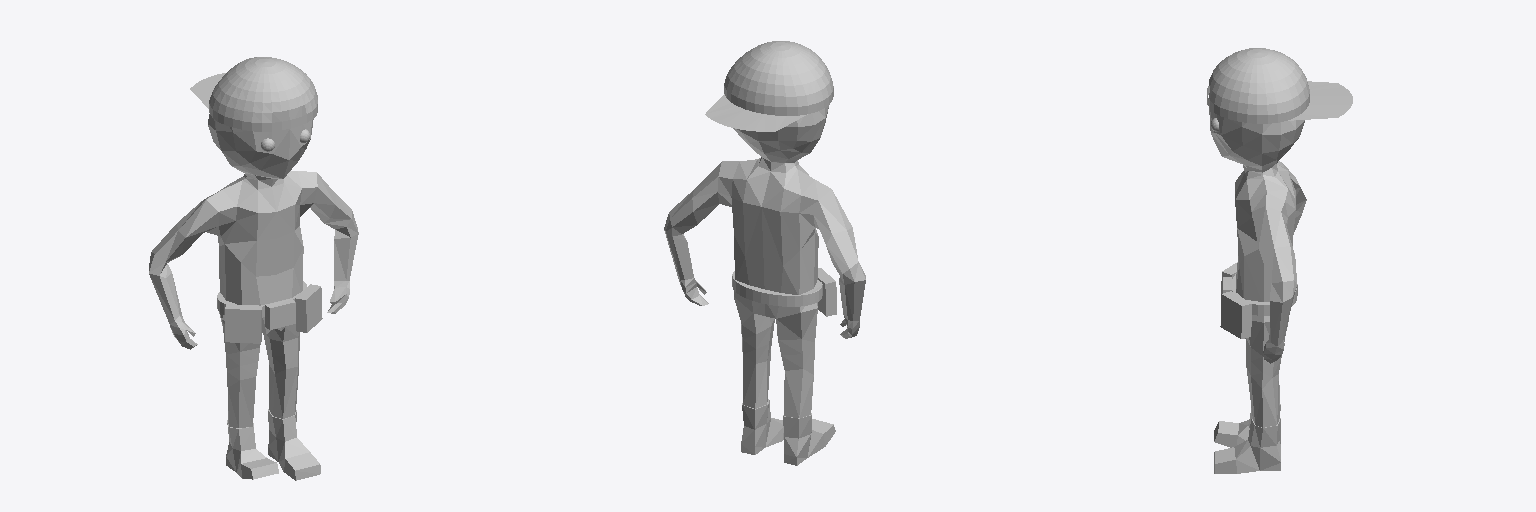
Rendered from Main_Character_Idle_2.obj.
3 views of the same model, side by side, from view 1: azimuth 30°, elevation 25°; view 2: azimuth 150°, elevation 25°; view 3: azimuth 270°, elevation 25° (orthographic).
Visible parts, largest first — view 1: Main_Character_Test.003_Main_Character_Test.004; view 2: Main_Character_Test.003_Main_Character_Test.004; view 3: Main_Character_Test.003_Main_Character_Test.004.
Boxes of the visible parts, x1=… form: Main_Character_Test.003_Main_Character_Test.004: x1=149, y1=57, x2=358, y2=480; Main_Character_Test.003_Main_Character_Test.004: x1=664, y1=41, x2=865, y2=465; Main_Character_Test.003_Main_Character_Test.004: x1=1207, y1=48, x2=1352, y2=473.
Bounding box in the file's own units: 2.11 × 3.98 × 1.31.